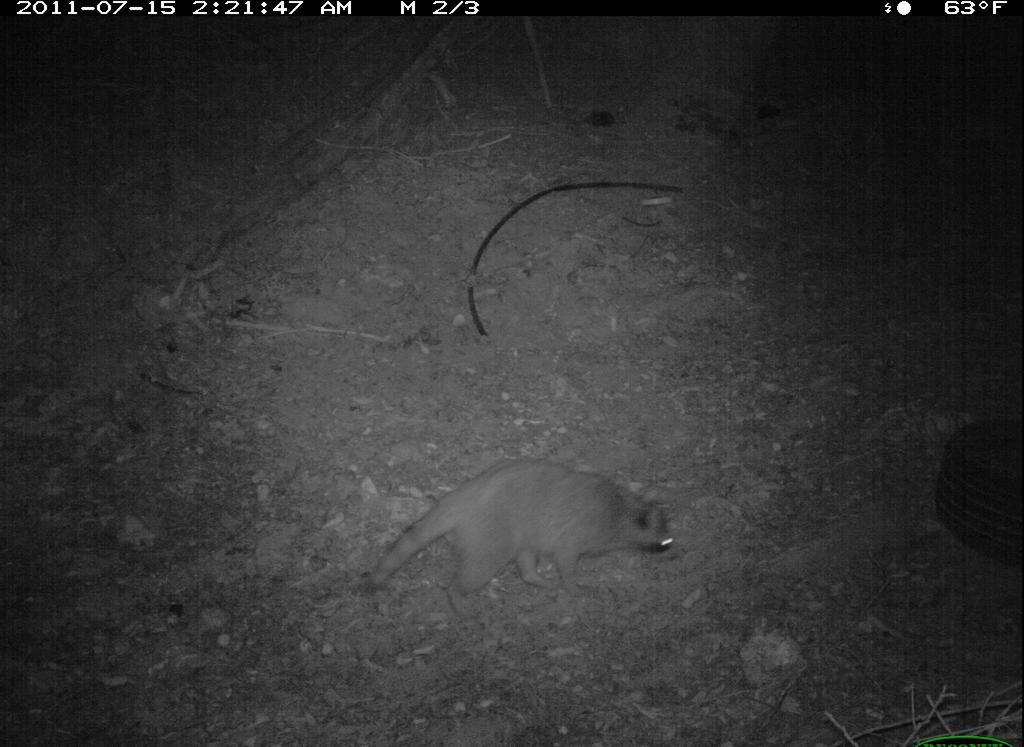raccoon: (354, 446, 690, 614)
